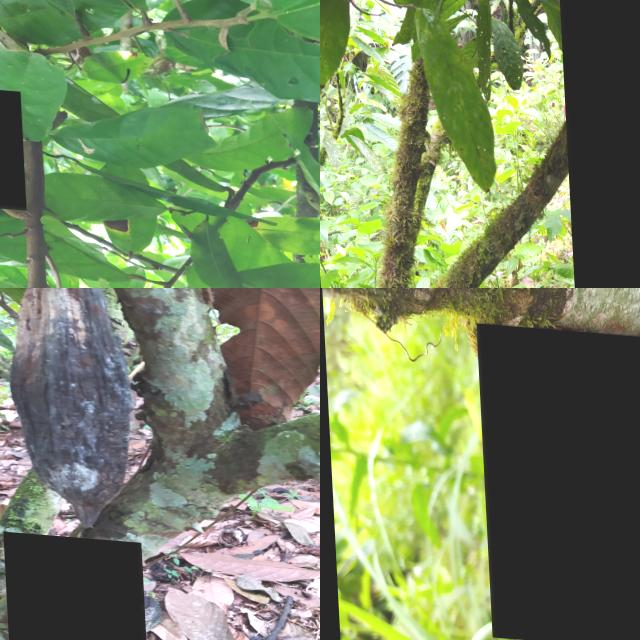Fitoftora: (474, 320, 640, 640), (1, 288, 135, 528), (0, 81, 22, 206)
Monilia: (0, 528, 146, 640)
Sana: (554, 0, 640, 288)
